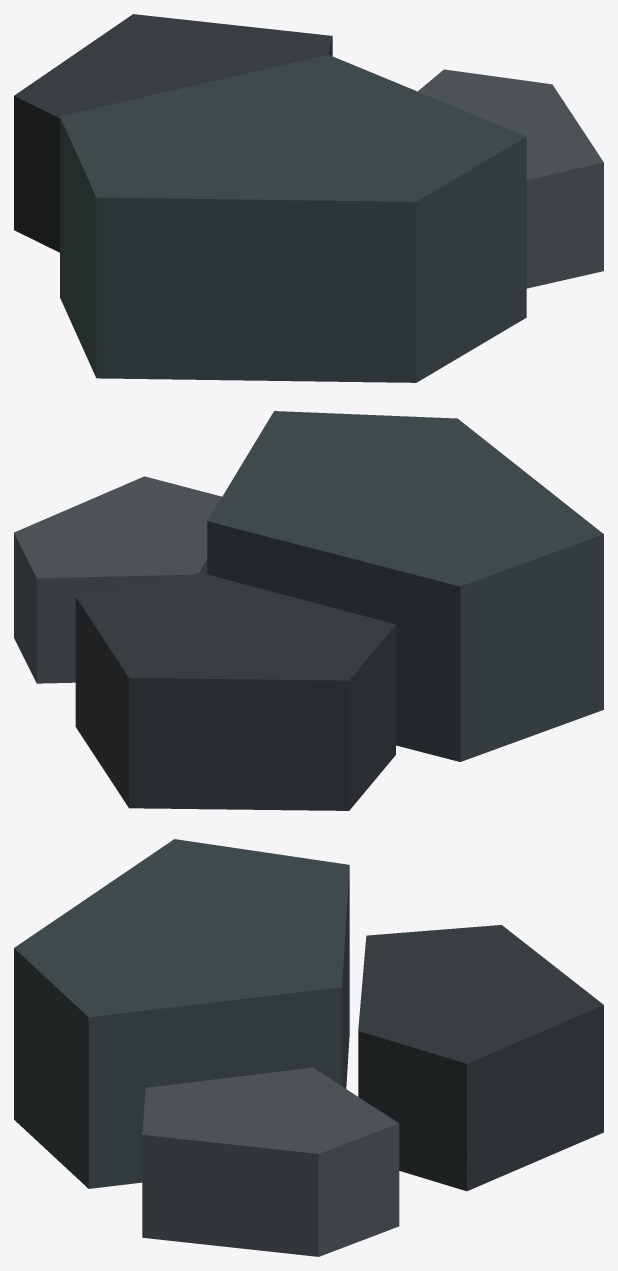
Rendered from TP_Stone02.fbx.
3 views of the same model, one above another, from view 1: azimuth 30°, elevation 25°; view 2: azimuth 150°, elevation 25°; view 3: azimuth 270°, elevation 25° (orthographic). The views are drawn at different scales.
Visible parts, largest first — view 1: TP_Stone02; view 2: TP_Stone02; view 3: TP_Stone02.
Boxes of the visible parts, box(x1,y1,x2,y2) form: TP_Stone02: box(14, 14, 603, 382); TP_Stone02: box(14, 411, 603, 810); TP_Stone02: box(14, 839, 603, 1256).
Bounding box in the file's own units: 52.08 × 16.92 × 52.73.
Materials: 1 (1 with a texture image).
